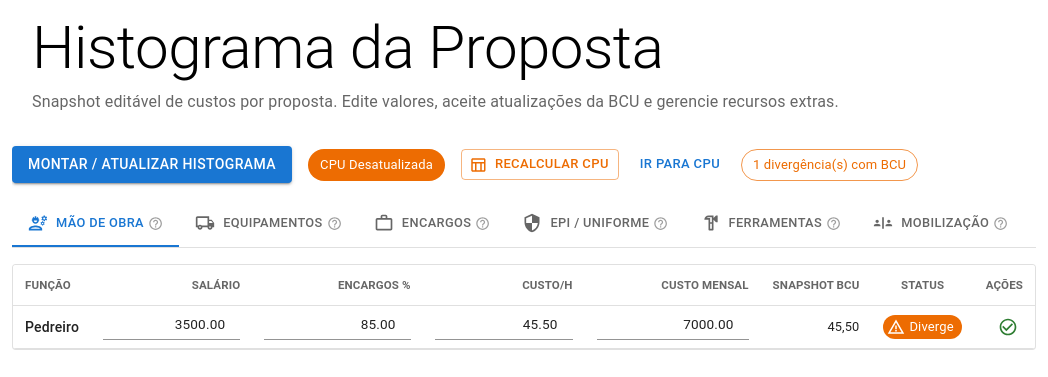
it: ProposalHistogramaPage › troca de aba (MO -> EQP) muda conteudo da tabela
This screenshot has width=1048, height=377.
Expected: the text "Pedreiro" is shown, [25, 317, 79, 337]
Click the tab "Equipamentos": click(268, 223) [179, 199, 358, 247]
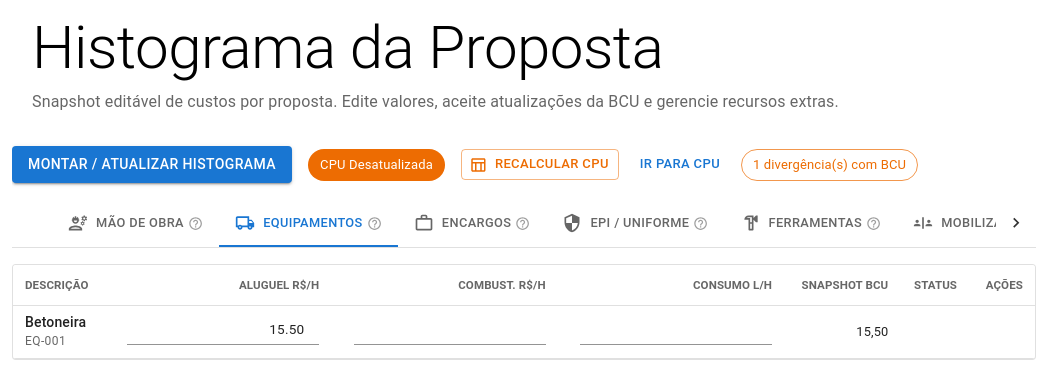
Expected: the text "Betoneira" is shown, [25, 312, 93, 332]
Expected: the column heading "Aluguel R$/h" is shown, [105, 265, 331, 306]
